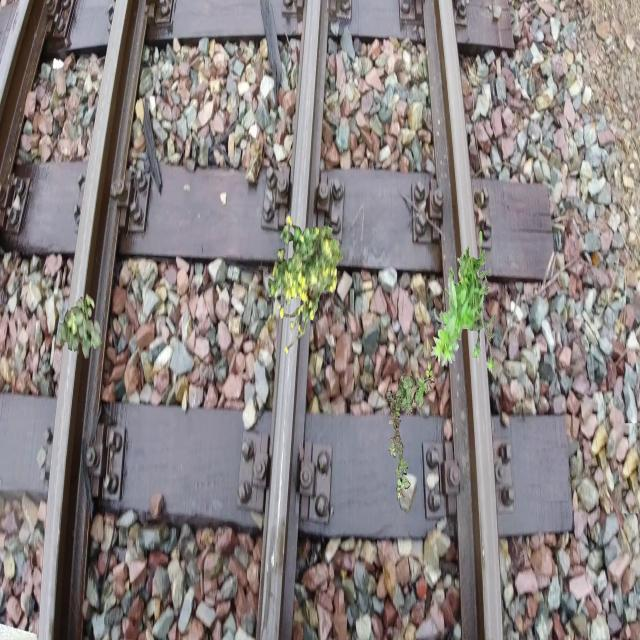Plant: (269, 215, 344, 355), (431, 230, 496, 374), (386, 362, 434, 500), (58, 293, 101, 360)
